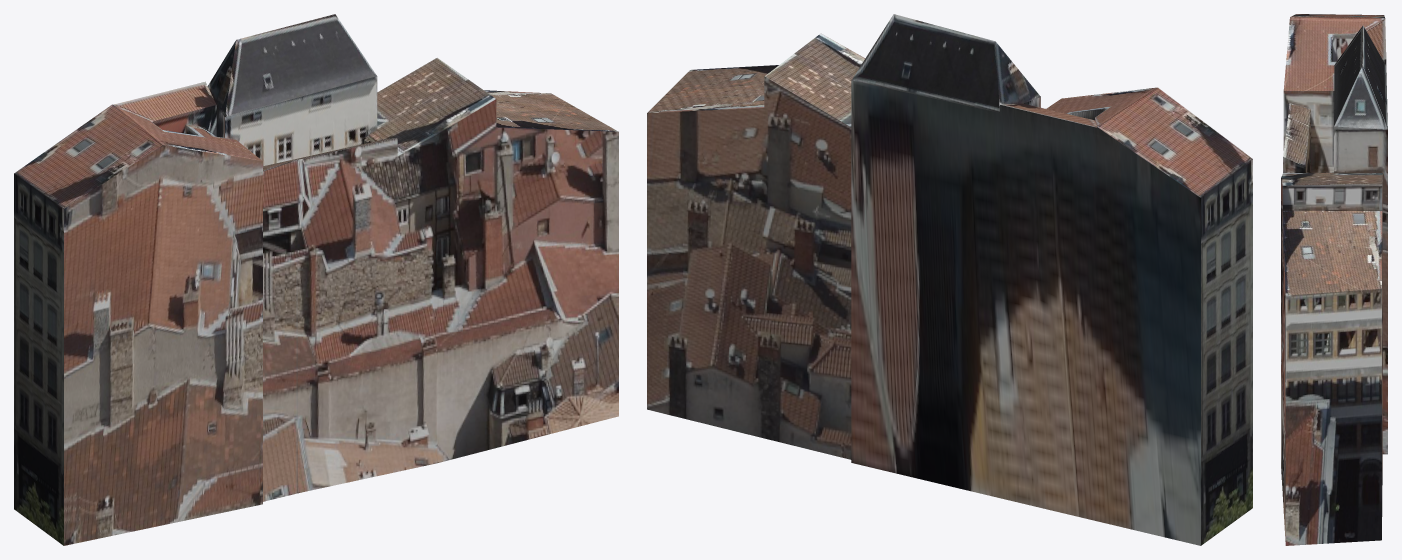
The picture shows the model from 3 angles, left to right: view 1: azimuth 30°, elevation 25°; view 2: azimuth 150°, elevation 25°; view 3: azimuth 270°, elevation 25°; orthographic projection. The views are drawn at different scales.
Visible parts, largest first — view 1: Z_UP; view 2: Z_UP; view 3: Z_UP.
Boxes of the visible parts, x1,y1,x2,y2 form: Z_UP: (14, 14, 618, 545); Z_UP: (647, 14, 1252, 545); Z_UP: (1281, 14, 1387, 545).
Bounding box in the file's own units: 42.63 × 31.83 × 8.17.
Materials: 2 (1 with a texture image).
